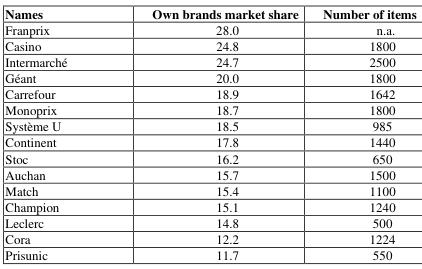table: (4, 4, 415, 262)
table column: (108, 4, 310, 262), (310, 4, 415, 262), (4, 4, 108, 262)
table column header: (4, 4, 415, 21)
table row: (4, 4, 415, 21), (4, 68, 415, 85), (4, 213, 415, 230), (4, 36, 415, 52), (4, 52, 415, 68), (4, 85, 415, 101), (4, 101, 415, 117), (4, 117, 415, 133), (4, 133, 415, 149), (4, 149, 415, 165), (4, 165, 415, 181), (4, 181, 415, 197), (4, 197, 415, 213), (4, 230, 415, 246), (4, 246, 415, 262), (4, 21, 415, 36)
